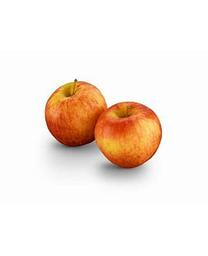apple: (95, 102, 162, 168), (47, 80, 107, 148)
